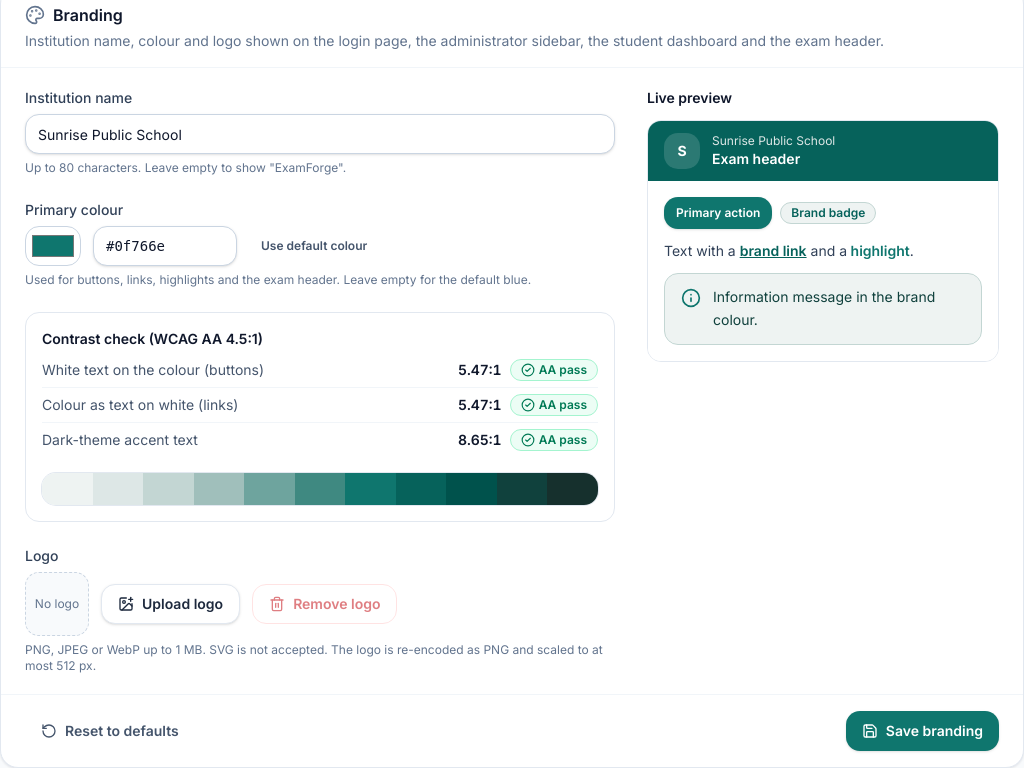
Test: Branding form › resets to defaults after confirmation
The image size is (1024, 768).
(page scrolled)
Expected: the field labelled "Institution name" holds "Sunrise Public School", [25,114,615,154]
Click the button "Reset to defaults". click: (110, 731)
box: [25,711,195,751]
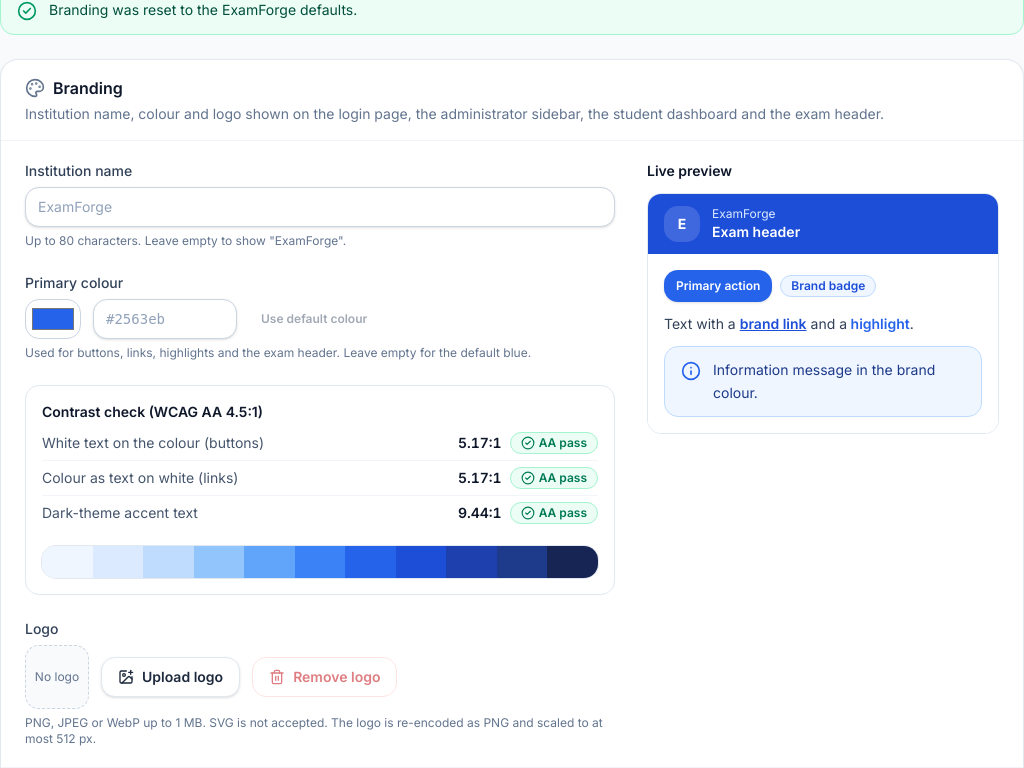
Now the text "Branding was reset to the ExamForge defaults." is shown, box [49,1,357,18]
